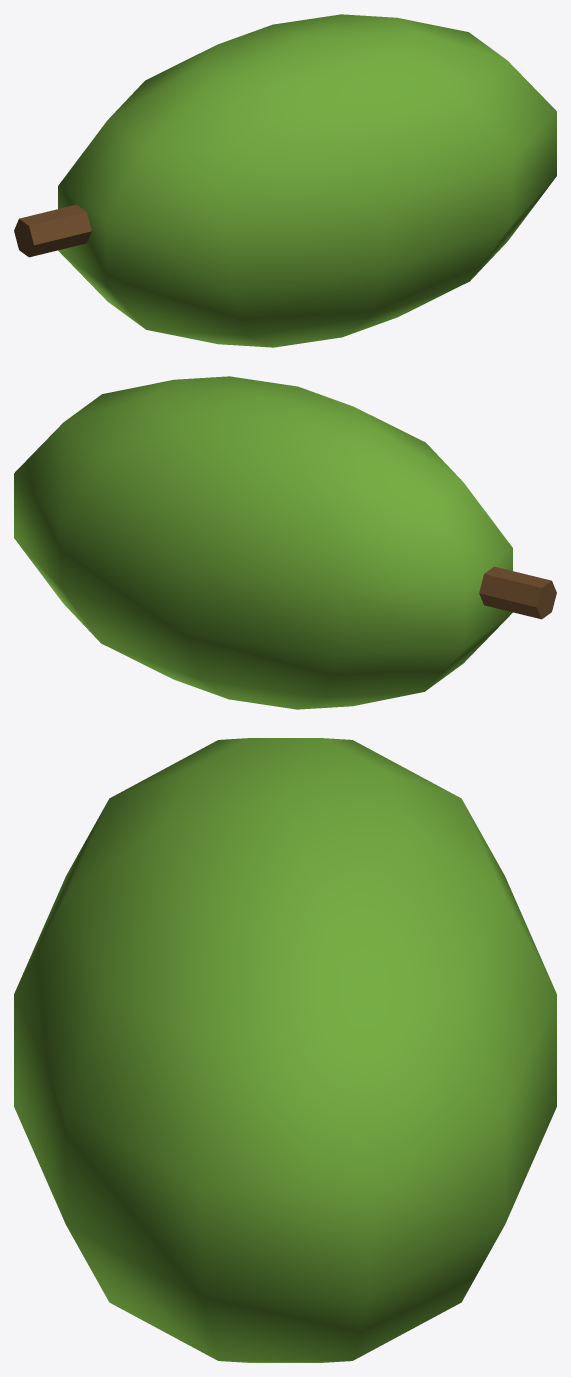
File: papaya.glb
3 views of the same model, one above another, from view 1: azimuth 30°, elevation 25°; view 2: azimuth 150°, elevation 25°; view 3: azimuth 270°, elevation 25° (orthographic). The views are drawn at different scales.
Visible parts, largest first — view 1: papaya; view 2: papaya; view 3: papaya.
Boxes of the visible parts, left/top/right/bottom form: papaya: left=14, top=14, right=556, bottom=347; papaya: left=14, top=376, right=556, bottom=709; papaya: left=14, top=738, right=556, bottom=1362.
Bounding box in the file's own units: 0.4397 × 0.24 × 0.234.
